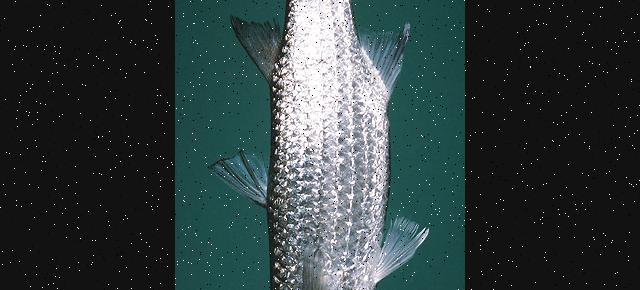Sirip Anal: (354, 14, 418, 96)
Sirip Dada: (298, 253, 346, 290)
Sirip Perut: (368, 211, 430, 282)
Sirip Punggung: (204, 11, 290, 206)
